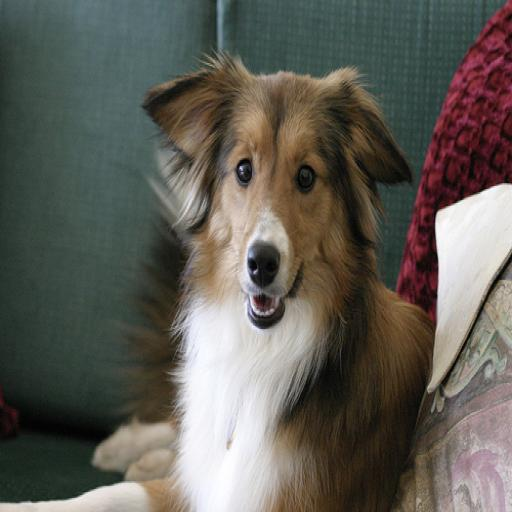dog_face: (156, 61, 402, 339)
